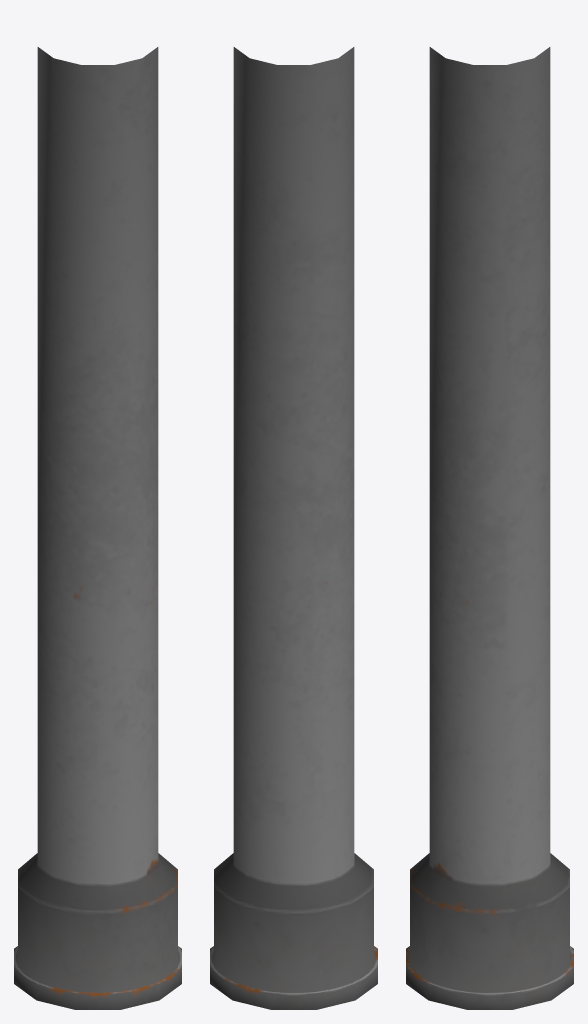
Rendered from SM_Building_RoofPart_03.glb.
3 renders of one model, left to right at view 1: azimuth 30°, elevation 25°; view 2: azimuth 150°, elevation 25°; view 3: azimuth 270°, elevation 25°, orthographic.
Visible parts, largest first — view 1: SM_Building_RoofPart_03; view 2: SM_Building_RoofPart_03; view 3: SM_Building_RoofPart_03.
Boxes of the visible parts, x1,y1,x2,y2 form: SM_Building_RoofPart_03: (14,47,181,1009); SM_Building_RoofPart_03: (210,47,377,1009); SM_Building_RoofPart_03: (406,47,573,1009).
Size of the model in its own units: 0.4966 by 3.05 by 0.4966.
Materials: 1 (1 with a texture image).
